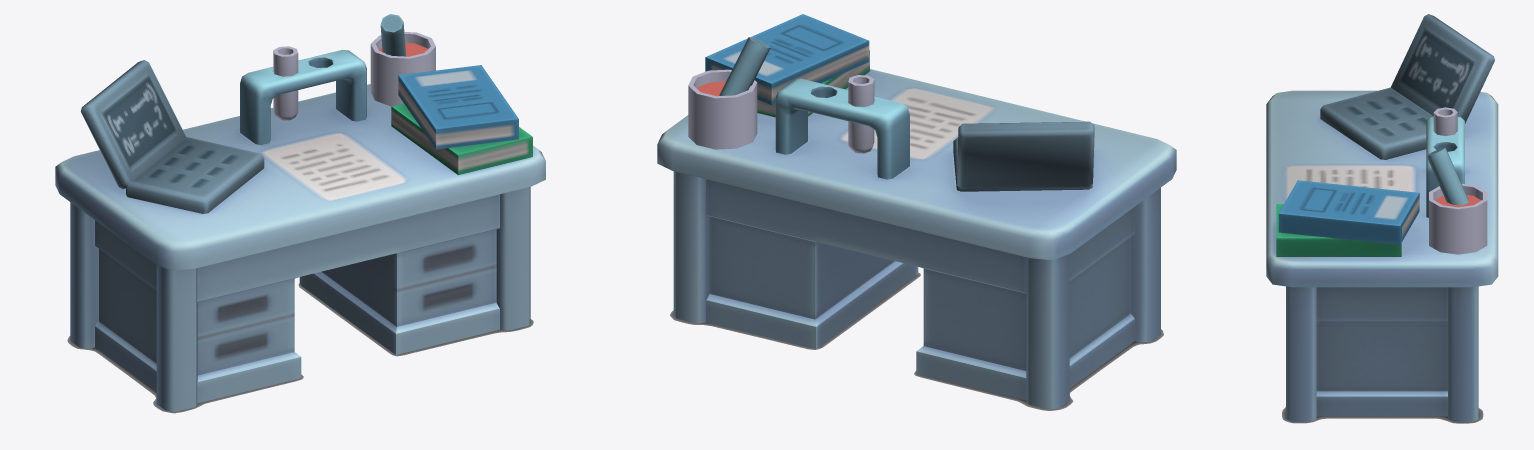
File: ScienceLab_Item_ScienceFacility.FBX
3 renders of one model, left to right at view 1: azimuth 30°, elevation 25°; view 2: azimuth 150°, elevation 25°; view 3: azimuth 270°, elevation 25°, orthographic. The views are drawn at different scales.
Visible parts, largest first — view 1: ScienceLab_Item_ScienceFacility, ScienceLab_Shadow_ScienceFacility; view 2: ScienceLab_Item_ScienceFacility, ScienceLab_Shadow_ScienceFacility; view 3: ScienceLab_Item_ScienceFacility, ScienceLab_Shadow_ScienceFacility.
Boxes of the visible parts, x1,y1,x2,y2 form: ScienceLab_Item_ScienceFacility: [55, 14, 545, 411]; ScienceLab_Shadow_ScienceFacility: [67, 283, 533, 413]; ScienceLab_Item_ScienceFacility: [657, 14, 1176, 409]; ScienceLab_Shadow_ScienceFacility: [670, 272, 1163, 410]; ScienceLab_Item_ScienceFacility: [1266, 14, 1498, 421]; ScienceLab_Shadow_ScienceFacility: [1282, 407, 1483, 423].
Bounding box in the file's own units: 2.48 × 1.46 × 1.46.
